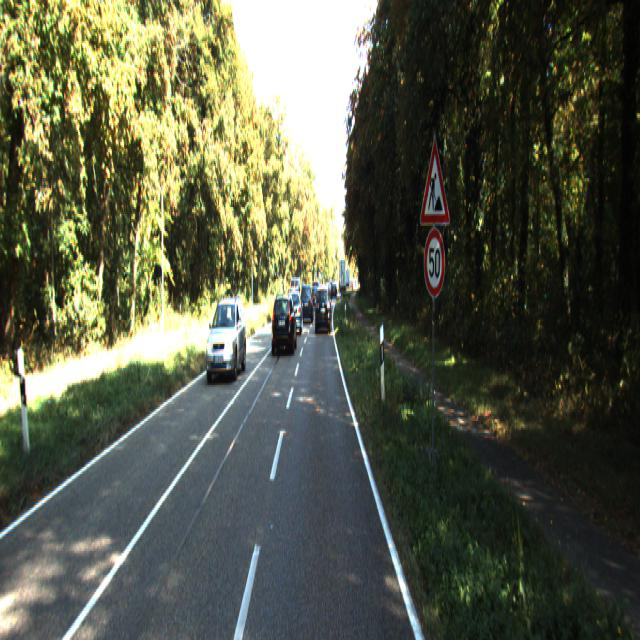Car: (206, 296, 247, 382), (272, 289, 298, 354), (315, 283, 331, 331), (287, 293, 303, 337), (301, 282, 313, 319)
